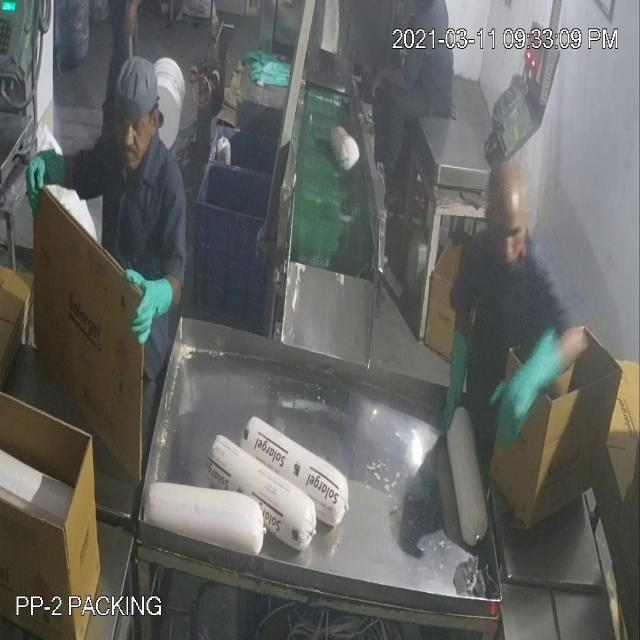Gloves: (50, 57, 528, 394)
